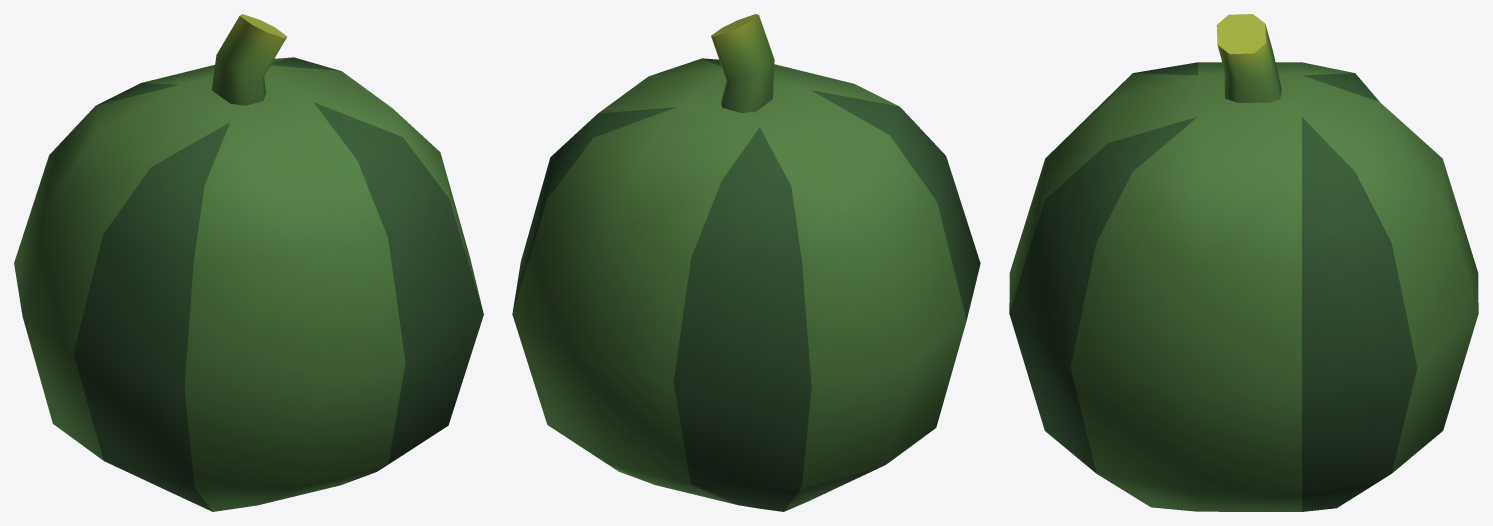
The model's file is melon.fbx.
The picture shows the model from 3 angles, left to right: view 1: azimuth 30°, elevation 25°; view 2: azimuth 150°, elevation 25°; view 3: azimuth 270°, elevation 25°; orthographic projection. The views are drawn at different scales.
Visible parts, largest first — view 1: melon; view 2: melon; view 3: melon.
Boxes of the visible parts, x1,y1,x2,y2 form: melon: (14,14,483,511); melon: (512,14,980,511); melon: (1009,14,1478,511).
Bounding box in the file's own units: 53.97 × 59.92 × 54.19.
